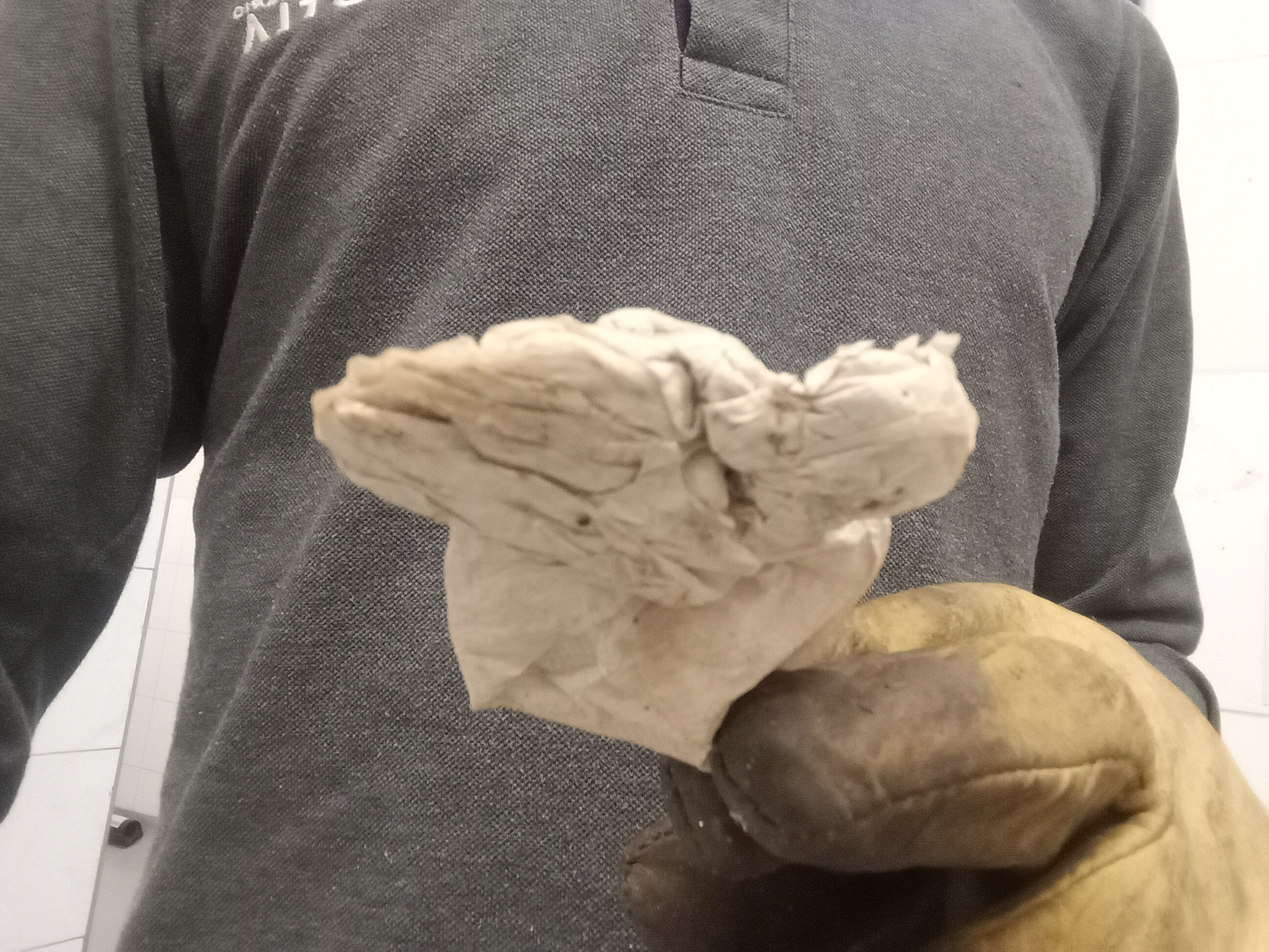Ordinario: (309, 308, 984, 770)
